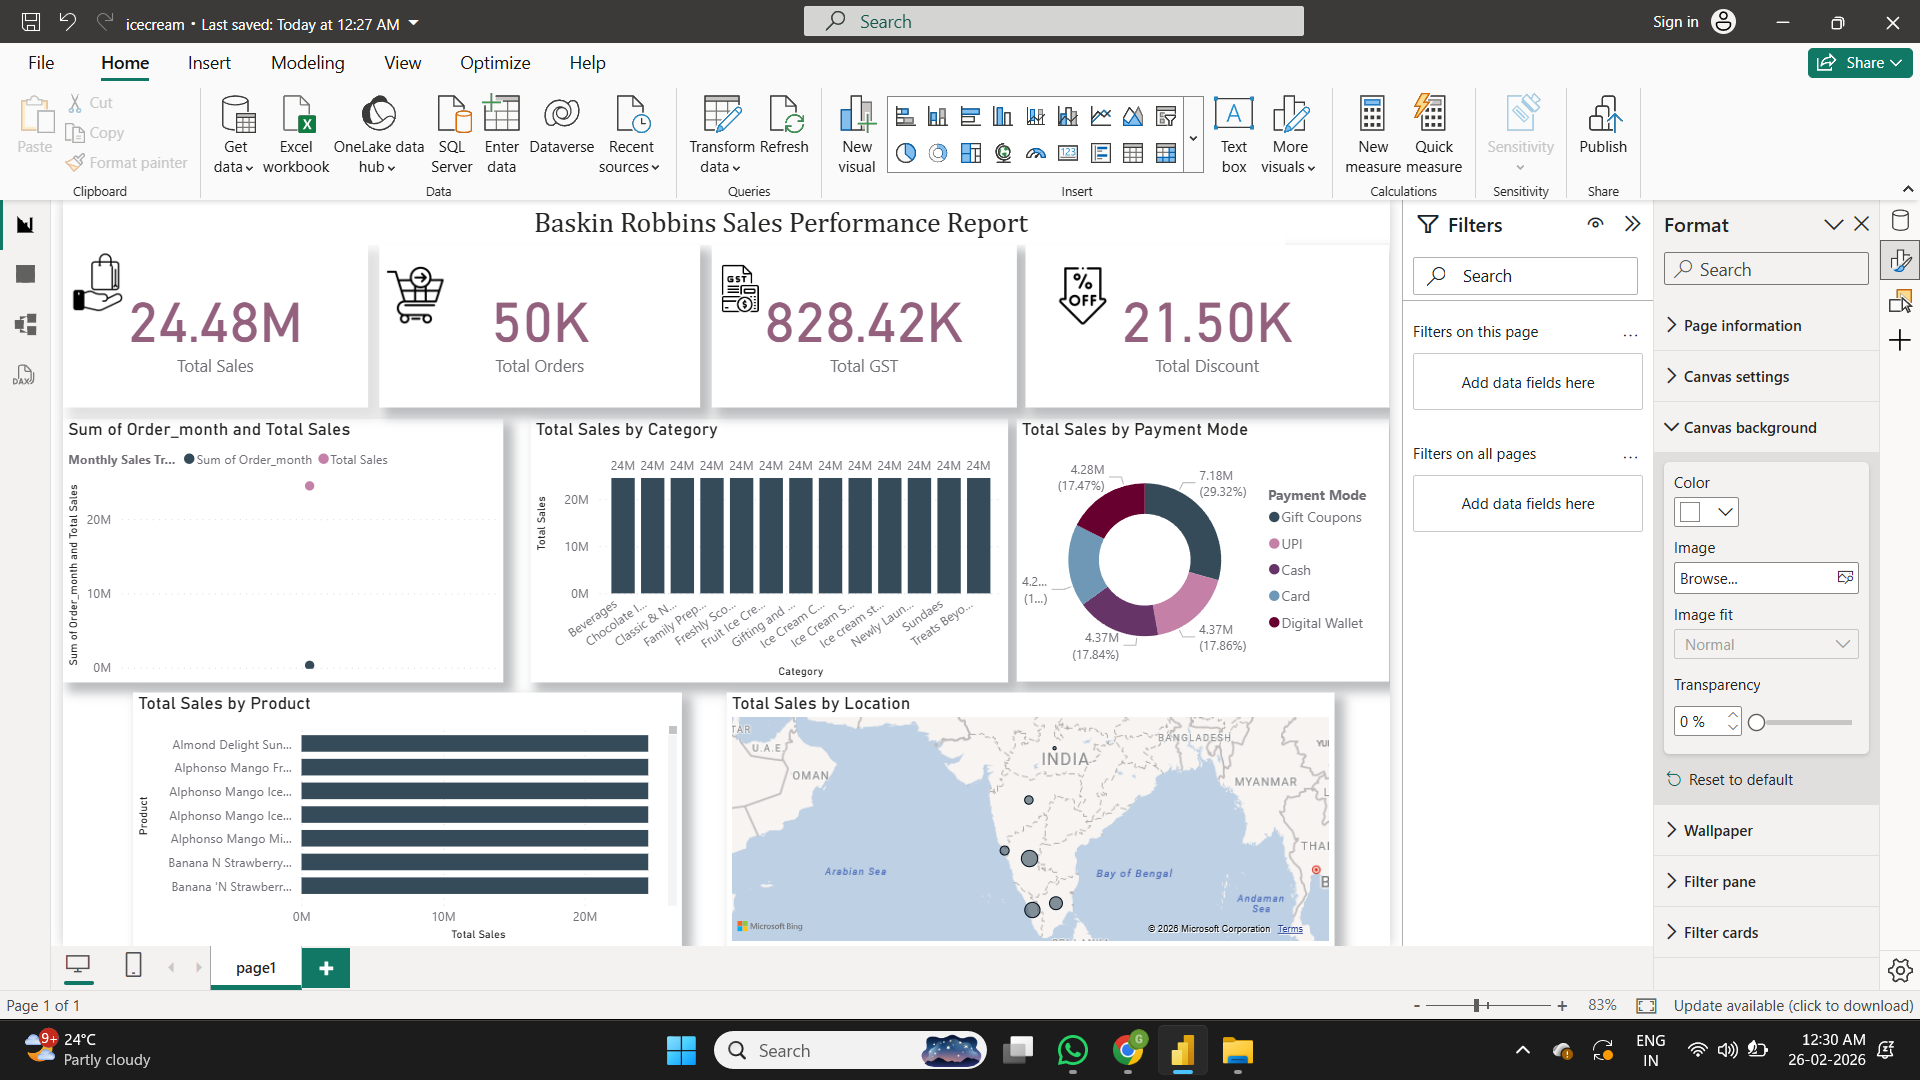

The page's visual inventory and layout, read from the dashboard file:
{"tool":"powerbi","page":{"name":"page1","canvas":[1280,720],"ordinal":0},"visuals":[{"type":"lineChart","fields":{"Y":["Baskin_Robins.Order_month","Baskin_Robins.Total Sales"]},"box":[0,211.1,424.5,254.5],"z":0},{"type":"clusteredColumnChart","fields":{"Category":["Product.Category"],"Y":["Baskin_Robins.Total Sales"]},"box":[451.1,211.1,460.7,254.5],"z":1000},{"type":"clusteredBarChart","fields":{"Category":["Product.Product"],"Y":["Baskin_Robins.Total Sales"]},"box":[67.5,475.2,529.4,244.8],"z":2000},{"type":"donutChart","fields":{"Category":["Baskin_Robins.Payment Mode"],"Y":["Baskin_Robins.Total Sales"]},"box":[920.2,211.1,359.4,253.3],"z":3000},{"type":"map","fields":{"Category":["Stores.Location"],"Size":["Baskin_Robins.Total Sales"]},"box":[640.4,475.2,586.1,244.8],"z":4000},{"type":"card","fields":{"Values":["Baskin_Robins.Total Sales"]},"box":[0,43.4,294.3,156.8],"z":5000},{"type":"card","fields":{"Values":["Baskin_Robins.Total Orders"]},"box":[305.1,43.4,309.9,156.8],"z":6000},{"type":"card","fields":{"Values":["Baskin_Robins.Total GST"]},"box":[625.9,43.4,294.3,156.8],"z":7000},{"type":"card","fields":{"Values":["Baskin_Robins.Total Discount"]},"box":[928.6,43.4,351,156.8],"z":8000},{"type":"image","box":[0,36.2,67.5,85.6],"z":9000},{"type":"image","box":[305.1,36.2,69.9,111],"z":10000},{"type":"image","box":[625.9,43.4,55.5,83.2],"z":11000},{"type":"image","box":[951.6,26.5,65.1,131.5],"z":12000},{"type":"textbox","box":[0,0,1179.5,43.4],"z":13000}]}

Visuals, with their boxes on the page's 1280x720 design canvas (x1, y1, x2, y2). These are canvas units, not pixel positions in the 1920x1080 screenshot, which may show the page scaled, cropped or inside an application window:
lineChart - Baskin_Robins.Order_month x Baskin_Robins.Total Sales: 0 211 424 466
clusteredColumnChart - Product.Category x Baskin_Robins.Total Sales: 451 211 912 466
clusteredBarChart - Product.Product x Baskin_Robins.Total Sales: 68 475 597 720
donutChart - Baskin_Robins.Payment Mode x Baskin_Robins.Total Sales: 920 211 1280 464
map - Stores.Location x Baskin_Robins.Total Sales: 640 475 1226 720
card - Baskin_Robins.Total Sales: 0 43 294 200
card - Baskin_Robins.Total Orders: 305 43 615 200
card - Baskin_Robins.Total GST: 626 43 920 200
card - Baskin_Robins.Total Discount: 929 43 1280 200
image: 0 36 68 122
image: 305 36 375 147
image: 626 43 681 127
image: 952 26 1017 158
textbox: 0 0 1180 43
